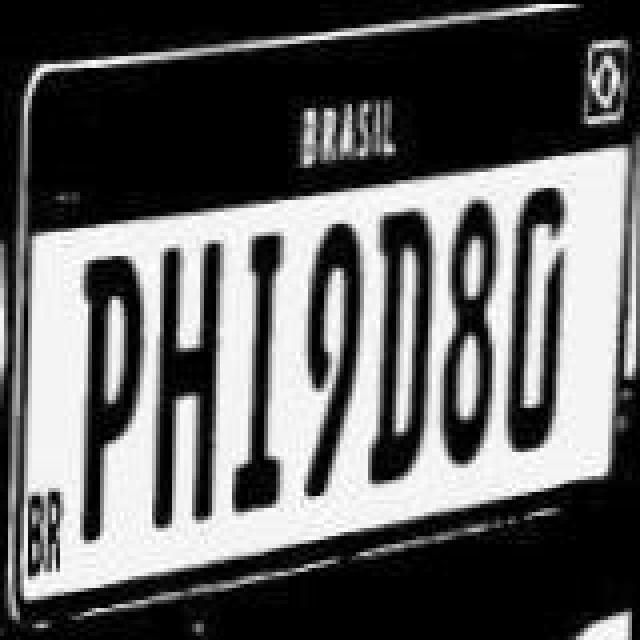8: (438, 200, 510, 468)
9: (290, 228, 370, 508)
D: (368, 208, 444, 492), (508, 186, 576, 446)
H: (148, 236, 228, 528)
I: (226, 232, 298, 520)
P: (78, 250, 146, 542)
